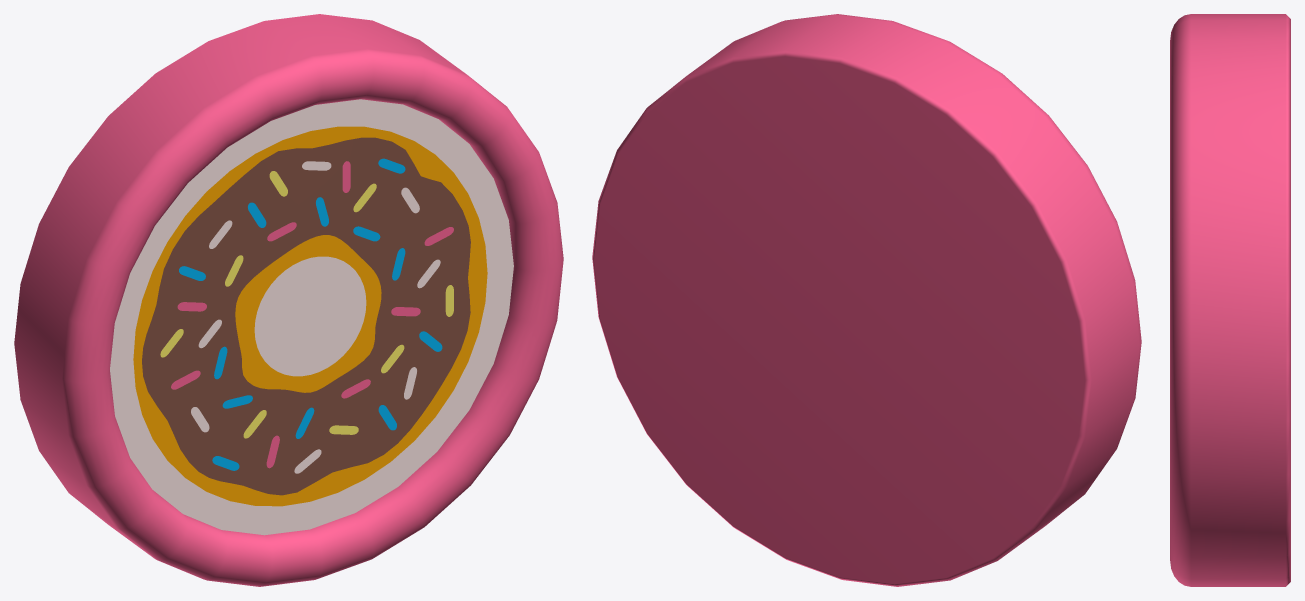
Rendered from Store_14_Donuts_Sign_3.glb.
3 renders of one model, left to right at view 1: azimuth 30°, elevation 25°; view 2: azimuth 150°, elevation 25°; view 3: azimuth 270°, elevation 25°, orthographic.
Parts seen in each view (by area): view 1: Store_14_Donuts_Sign_3; view 2: Store_14_Donuts_Sign_3; view 3: Store_14_Donuts_Sign_3.
Boxes of the visible parts, left/top/right/bottom form: Store_14_Donuts_Sign_3: left=14, top=14, right=563, bottom=586; Store_14_Donuts_Sign_3: left=592, top=14, right=1141, bottom=586; Store_14_Donuts_Sign_3: left=1170, top=14, right=1290, bottom=586.
Size of the model in its own units: 1.65 by 1.65 by 0.3479.
Materials: 1 (1 with a texture image).
